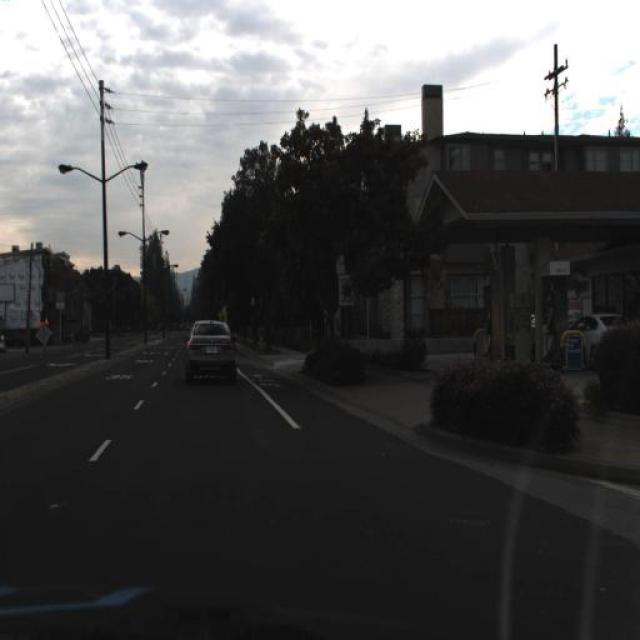car: (181, 318, 239, 388)
